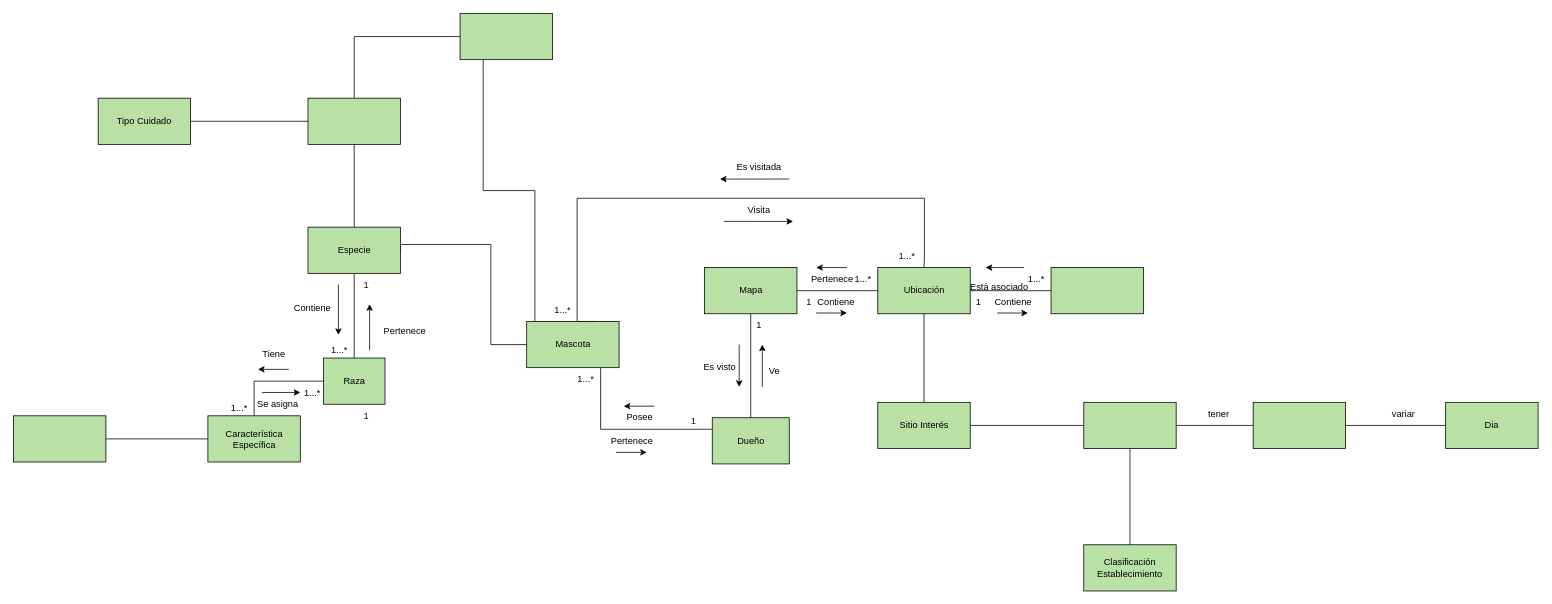
Image size: 1552x604. Some labels were removed from this diagram. The centre of each missing label's shape, as x and y in pixels:
"Ciudad" belongs at (1096,290).
"Cuidado Basico" belongs at (353,120).
"Cuidado Especifico" belongs at (59,438).
"Establecimiento" belongs at (1129,425).
"Horario" belongs at (1299,425).
"Información Último Cuidado" belongs at (505,36).
